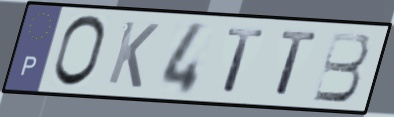4: (159, 19, 204, 97)
B: (310, 30, 372, 104)
K: (104, 18, 162, 91)
O: (50, 13, 108, 90)
T: (273, 28, 321, 100), (220, 27, 268, 96)
